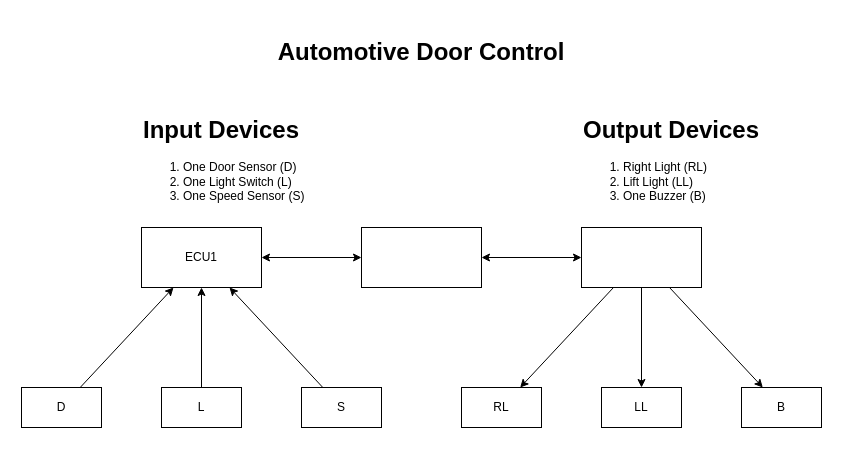
The diagram is 844 pixels wide and 464 high, and some of its shapes have lost their labels. Here are the shapes that lost their labels. From the top down, the centre of each, then its label:
the point at 421,257: CAN Protocol
the point at 641,257: ECU2
